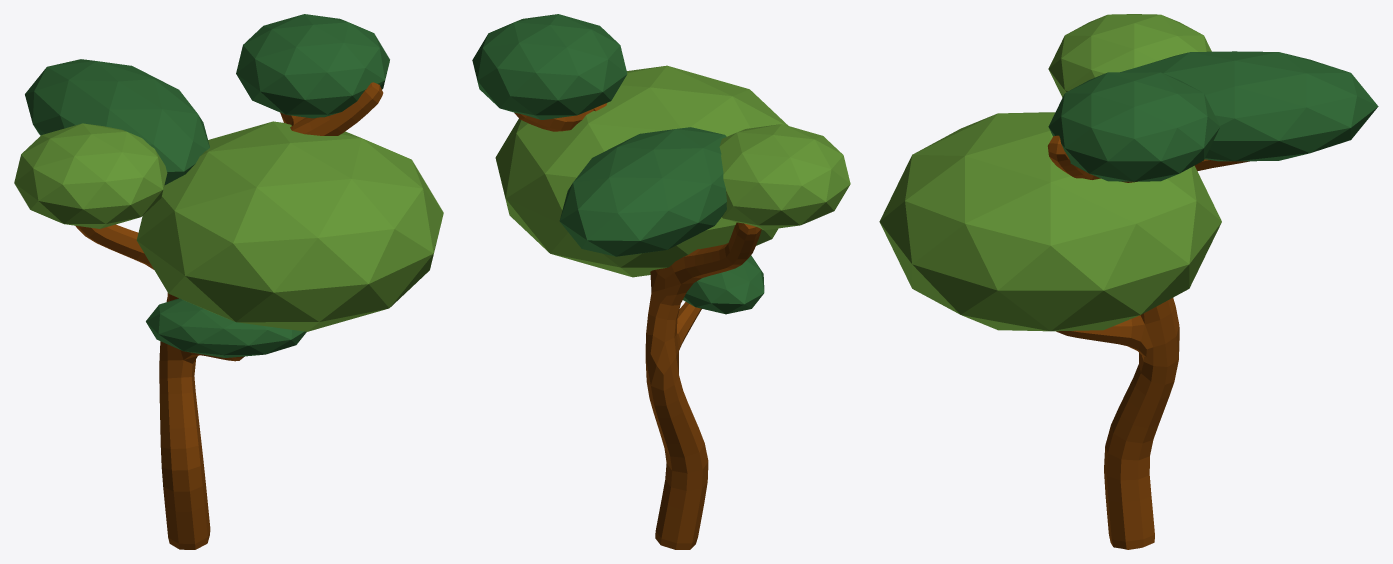
File: Albero 2.fbx
3 renders of one model, left to right at view 1: azimuth 30°, elevation 25°; view 2: azimuth 150°, elevation 25°; view 3: azimuth 270°, elevation 25°, orthographic. The views are drawn at different scales.
Parts seen in each view (by area): view 1: Icosphere.004, Icosphere, Icosphere.001, Icosphere.002, Vert, Icosphere.003; view 2: Icosphere.004, Icosphere.002, Vert, Icosphere.001, Icosphere, Icosphere.003; view 3: Icosphere.004, Icosphere.002, Icosphere.001, Vert, Icosphere.
Boxes of the visible parts, left/top/right/bottom form: Icosphere.004: left=136, top=121, right=443, bottom=331; Icosphere: left=14, top=123, right=167, bottom=228; Icosphere.001: left=236, top=14, right=389, bottom=118; Icosphere.002: left=25, top=59, right=209, bottom=185; Vert: left=75, top=82, right=383, bottom=549; Icosphere.003: left=146, top=298, right=306, bottom=357; Icosphere.004: left=495, top=65, right=788, bottom=277; Icosphere.002: left=559, top=127, right=726, bottom=256; Vert: left=514, top=103, right=761, bottom=549; Icosphere.001: left=472, top=14, right=627, bottom=119; Icosphere: left=719, top=124, right=850, bottom=230; Icosphere.003: left=683, top=255, right=764, bottom=314; Icosphere.004: left=879, top=112, right=1221, bottom=331; Icosphere.002: left=1122, top=51, right=1378, bottom=161; Icosphere.001: left=1048, top=72, right=1220, bottom=181; Vert: left=1047, top=135, right=1249, bottom=549; Icosphere: left=1048, top=14, right=1211, bottom=97.
Bounding box in the file's own units: 876 × 1150 × 978.
